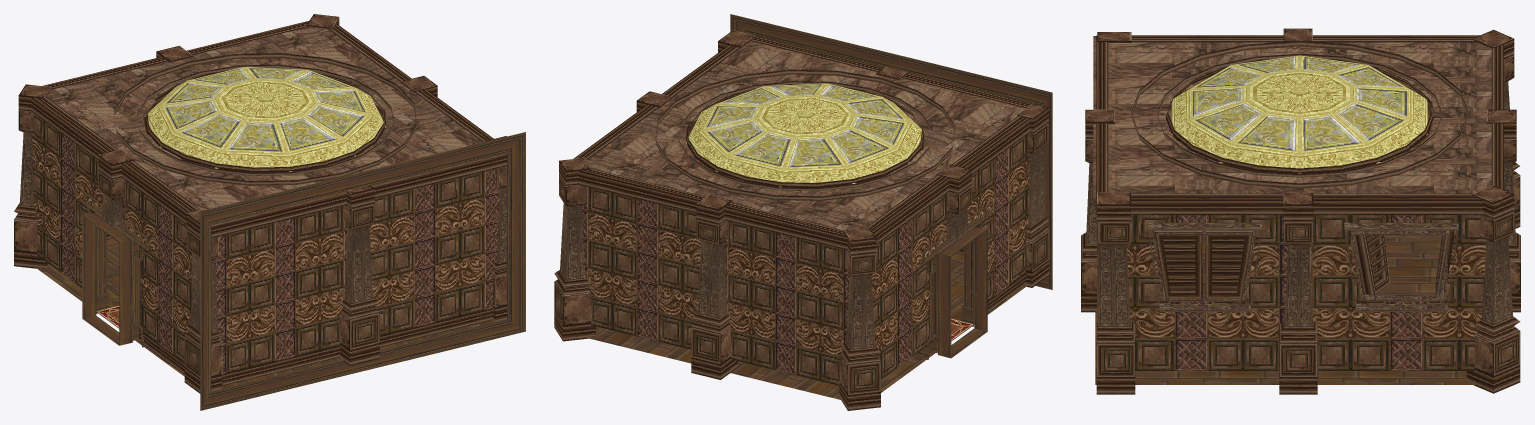
File: o_heya2.glb
3 views of the same model, side by side, from view 1: azimuth 30°, elevation 25°; view 2: azimuth 150°, elevation 25°; view 3: azimuth 270°, elevation 25° (orthographic). The views are drawn at different scales.
Parts seen in each view (by area): view 1: o_heya2; view 2: o_heya2; view 3: o_heya2.
Boxes of the visible parts, x1,y1,x2,y2 form: o_heya2: (14,14,525,410); o_heya2: (554,14,1052,410); o_heya2: (1081,28,1520,394).
Size of the model in its own units: 1049 by 634 by 1082.
14 materials, 14 textured.
